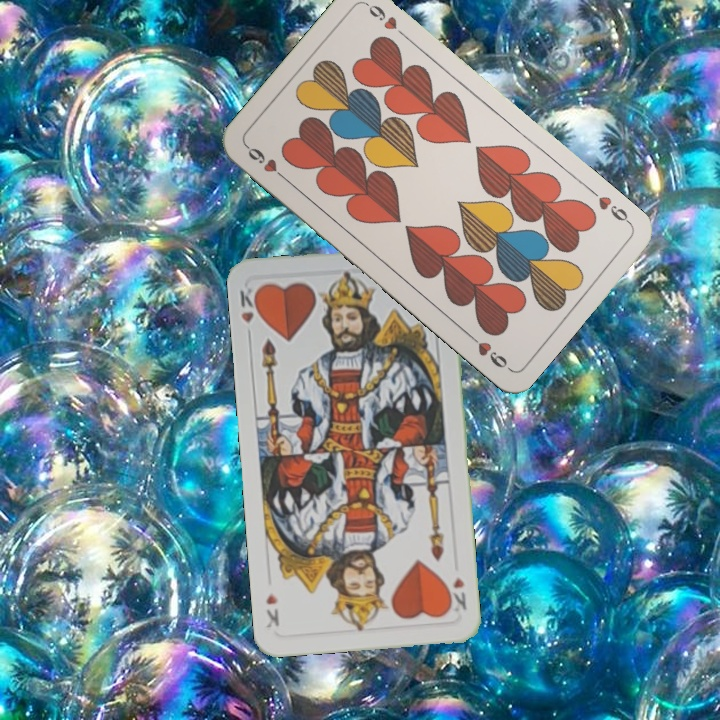H9: (242, 141, 291, 184), (594, 191, 635, 228)
HK: (235, 282, 263, 342), (443, 573, 469, 615)
